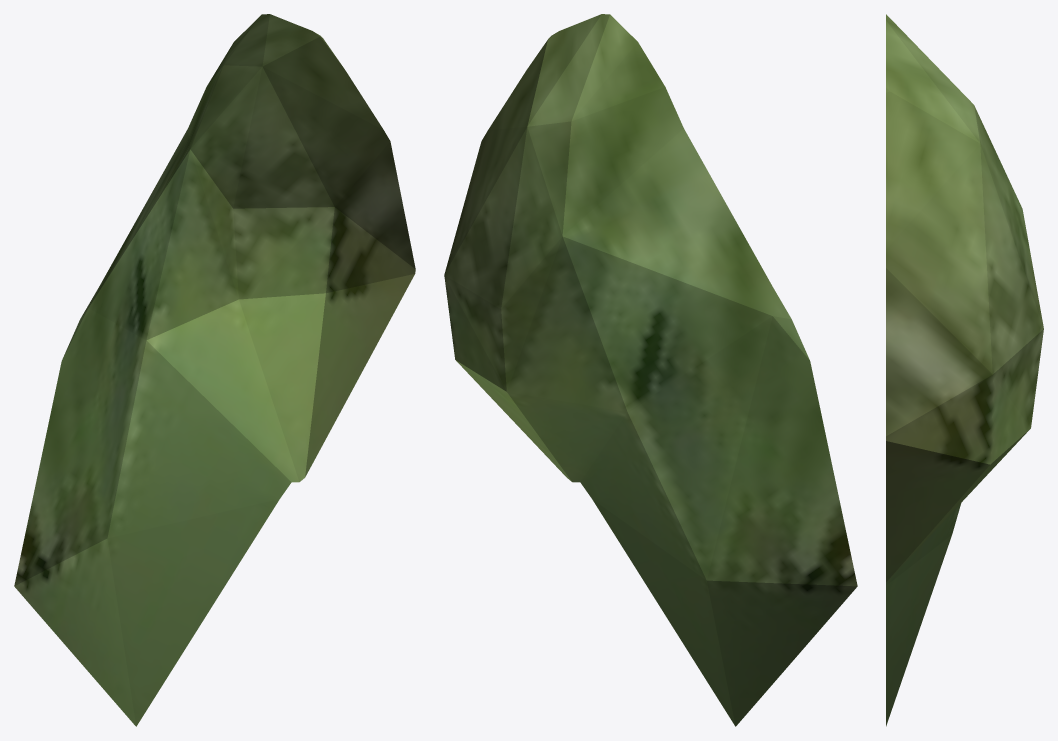
3 views of the same model, side by side, from view 1: azimuth 30°, elevation 25°; view 2: azimuth 150°, elevation 25°; view 3: azimuth 270°, elevation 25° (orthographic). The views are drawn at different scales.
Bounding box in the file's own units: 0.7502 × 1.22 × 0.2225.
1 material, 1 textured.
